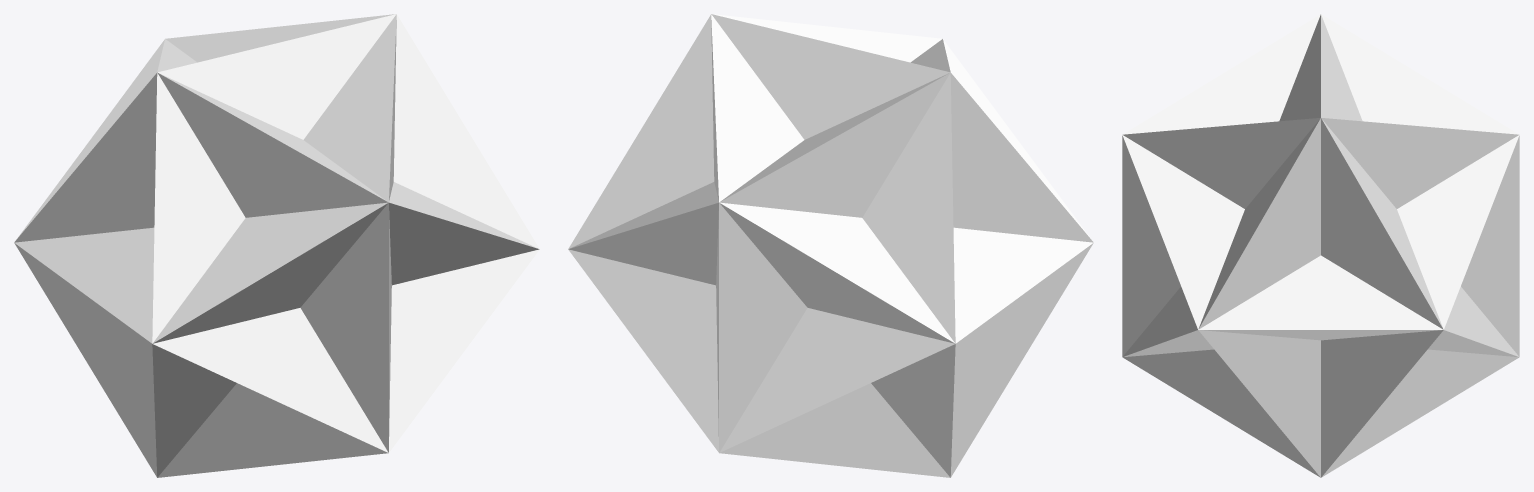
The model's file is great-dodecahedron.gltf.
3 renders of one model, left to right at view 1: azimuth 30°, elevation 25°; view 2: azimuth 150°, elevation 25°; view 3: azimuth 270°, elevation 25°, orthographic. The views are drawn at different scales.
Visible parts, largest first — view 1: Great Dodecahedron ((5.5.5.5.5)/2), W21, p39; view 2: Great Dodecahedron ((5.5.5.5.5)/2), W21, p39; view 3: Great Dodecahedron ((5.5.5.5.5)/2), W21, p39.
Boxes of the visible parts, <box> form: Great Dodecahedron ((5.5.5.5.5)/2), W21, p39: <box>14,14,539,477</box>; Great Dodecahedron ((5.5.5.5.5)/2), W21, p39: <box>568,14,1093,477</box>; Great Dodecahedron ((5.5.5.5.5)/2), W21, p39: <box>1122,14,1519,477</box>.
Size of the model in its own units: 22.59 by 22.59 by 22.59.
Materials: 1 (1 with a texture image).
